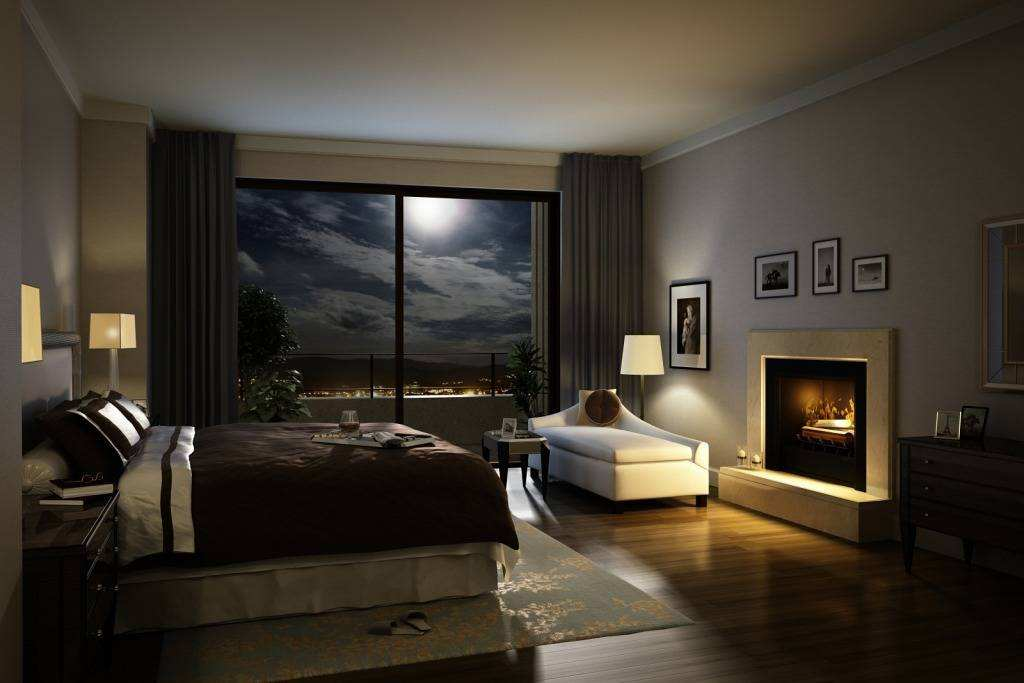床: (114, 425, 533, 630)
枕头: (58, 394, 151, 482)
灯: (77, 311, 132, 396), (613, 332, 662, 420)
